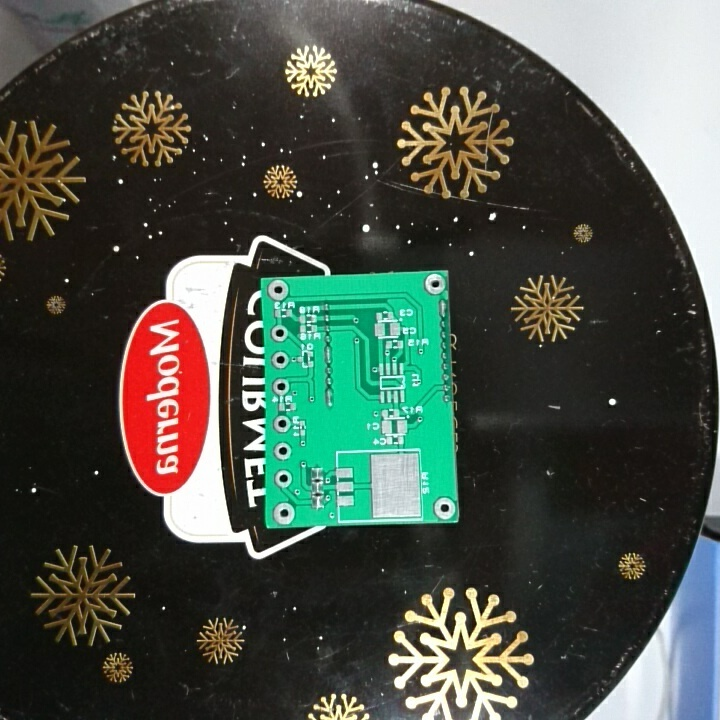F: (271, 500, 297, 526), (422, 272, 447, 298), (265, 278, 292, 302), (432, 496, 457, 521), (271, 440, 294, 463), (271, 412, 293, 436), (273, 466, 295, 490), (268, 349, 290, 371), (270, 376, 293, 397), (270, 322, 291, 343)
P: (436, 297, 449, 320), (322, 344, 335, 366), (324, 386, 336, 409)
